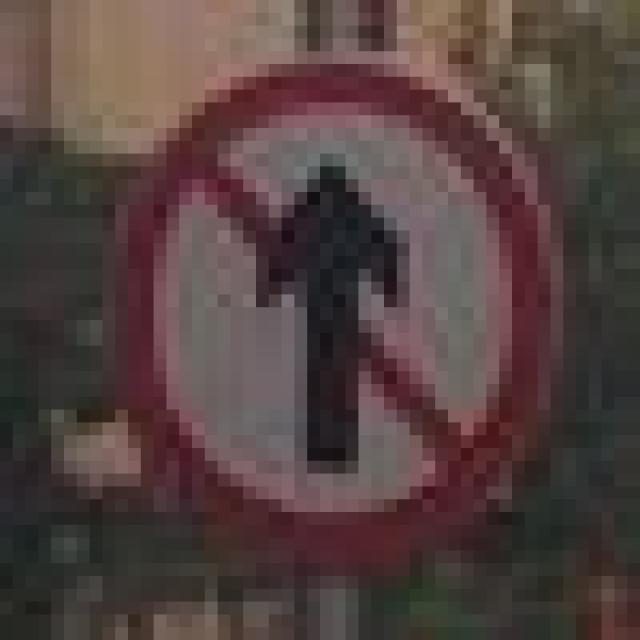straight prohibited: (101, 41, 575, 584)
